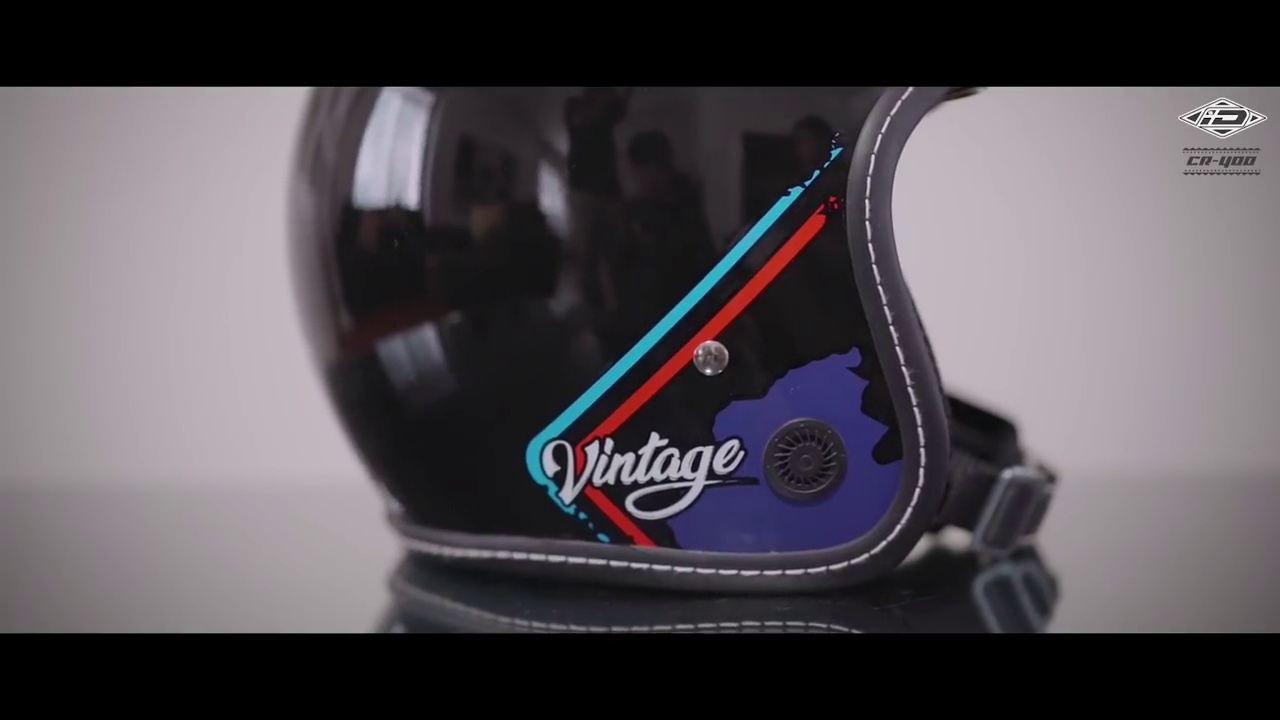helmet: (284, 78, 1060, 594)
